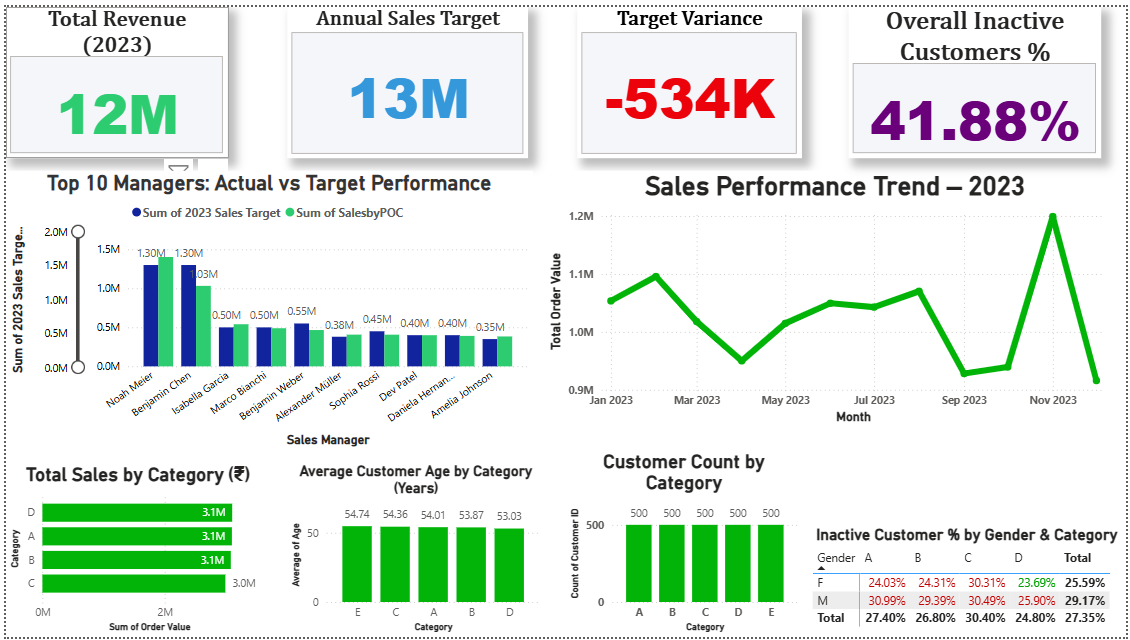

Layout of this report page (visuals, bound fields, positions):
{"tool":"powerbi","page":{"name":"SALES OVERVIEW (Main Dashboard)","canvas":[1280,720],"ordinal":0},"visuals":[{"type":"cardVisual","title":"Total Revenue (2023)","fields":{"Data":["Sum(Orders.Order Value)"]},"box":[0,0,253.9,173.1],"z":0},{"type":"cardVisual","title":"Annual Sales Target","fields":{"Data":["Sum(Sales Targets.2023 Sales Target)"]},"box":[321.7,0,275.6,173.1],"z":1000},{"type":"cardVisual","title":"Target Variance","fields":{"Data":["Sum(Sales Targets.Difference)"]},"box":[653.6,0,256.8,173.1],"z":2000},{"type":"clusteredColumnChart","title":"Top 10 Managers: Actual vs Target Performance","fields":{"Category":["Sales Targets.Sales Manager"],"Y":["Sum(Sales Targets.2023 Sales Target)","Sum(Sales Targets.SalesbyPOC)"]},"box":[0,187.6,601.6,320.3],"z":3000},{"type":"lineChart","title":"Sales Performance Trend – 2023","fields":{"Category":["Orders.Order Datetime.Variation.Date Hierarchy.Year","Orders.Order Datetime.Variation.Date Hierarchy.Month"],"Y":["Sum(Orders.Order Value)"]},"box":[616.1,187.6,663.7,294.3],"z":4000},{"type":"pivotTable","title":"Inactive Customer % by Gender & Category","fields":{"Columns":["Customers.Category"],"Rows":["Customers.Gender"],"Values":["Customers.% Customers Did Not Order"]},"box":[917.6,593,362.1,127],"z":5000},{"type":"cardVisual","title":"Overall Inactive Customers %","fields":{"Data":["Customers.% Customers Did Not Order"]},"box":[962.3,0,288.6,173.1],"z":6000},{"type":"clusteredColumnChart","title":"Customer Count by Category","fields":{"Category":["Customers.Category"],"Y":["CountNonNull(Customers.Customer ID)"]},"box":[640,507.1,270,212.9],"z":7000},{"type":"clusteredColumnChart","title":"Average Customer Age by Category (Years)","fields":{"Category":["Customers.Category"],"Y":["Avg(Customers.Age)"]},"box":[321.4,520,294.3,200],"z":8000},{"type":"barChart","title":"Total Sales by Category (₹)","fields":{"Category":["Customers.Category"],"Y":["Sum(Orders.Order Value)"]},"box":[0,520,301.4,200],"z":8001}]}

Visuals, with their boxes in screenshot pixels (x1, y1, x2, y2), scaled from the page's 1280x720 canvas onto the 1130x640 screenshot:
"Total Revenue (2023)" cardVisual: box=[0, 0, 224, 154]
"Annual Sales Target" cardVisual: box=[284, 0, 527, 154]
"Target Variance" cardVisual: box=[577, 0, 804, 154]
"Top 10 Managers: Actual vs Target Performance" clusteredColumnChart: box=[0, 167, 531, 451]
"Sales Performance Trend – 2023" lineChart: box=[544, 167, 1129, 428]
"Inactive Customer % by Gender & Category" pivotTable: box=[810, 527, 1129, 639]
"Overall Inactive Customers %" cardVisual: box=[850, 0, 1104, 154]
"Customer Count by Category" clusteredColumnChart: box=[565, 451, 803, 639]
"Average Customer Age by Category (Years)" clusteredColumnChart: box=[284, 462, 544, 639]
"Total Sales by Category (₹)" barChart: box=[0, 462, 266, 639]
